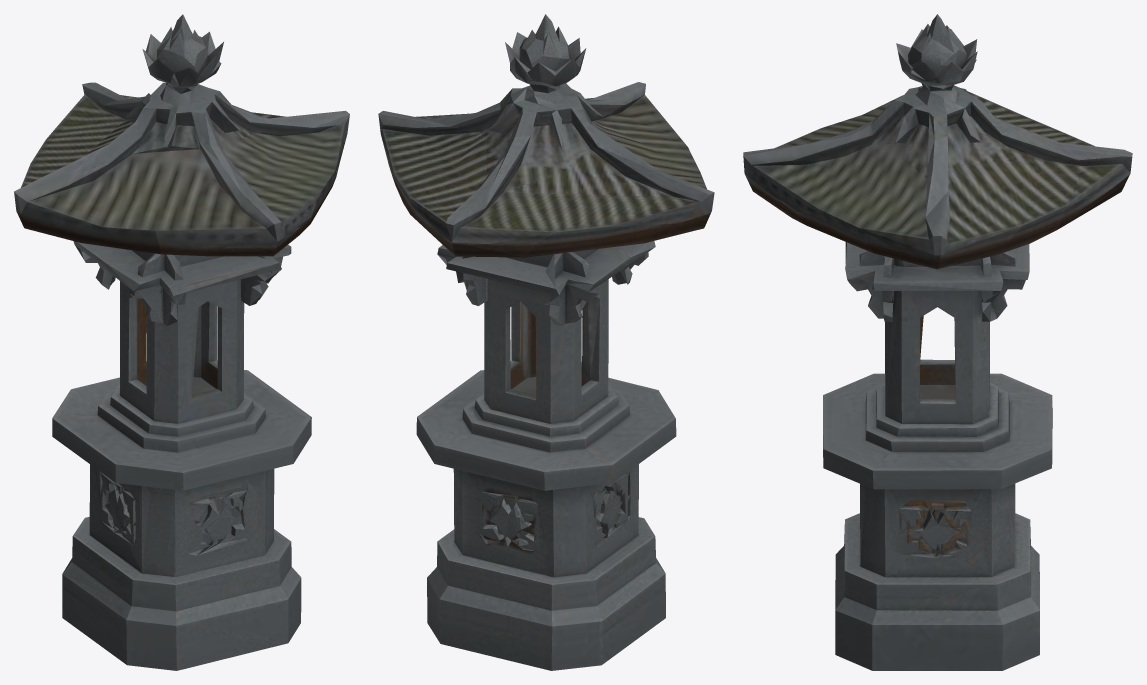
Rendered from stone_lantern.glb.
3 views of the same model, side by side, from view 1: azimuth 30°, elevation 25°; view 2: azimuth 150°, elevation 25°; view 3: azimuth 270°, elevation 25° (orthographic).
Bounding box in the file's own units: 1.09 × 1.9 × 1.09.
1 material, 1 textured.
